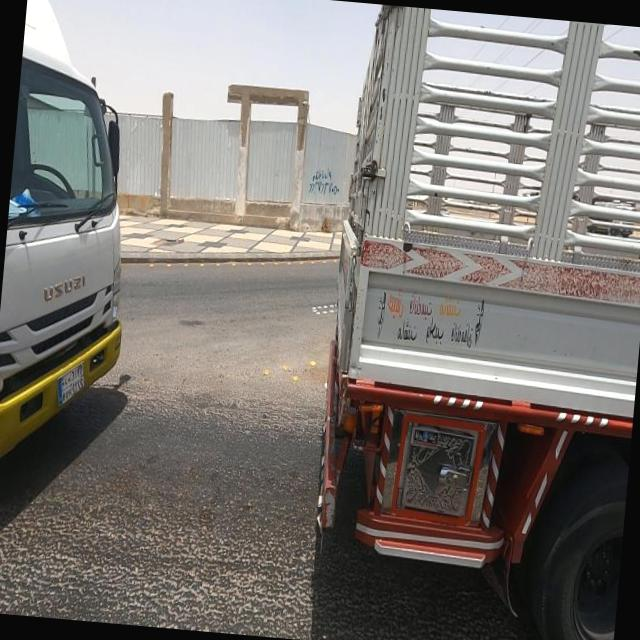debris: (278, 124, 373, 240)
